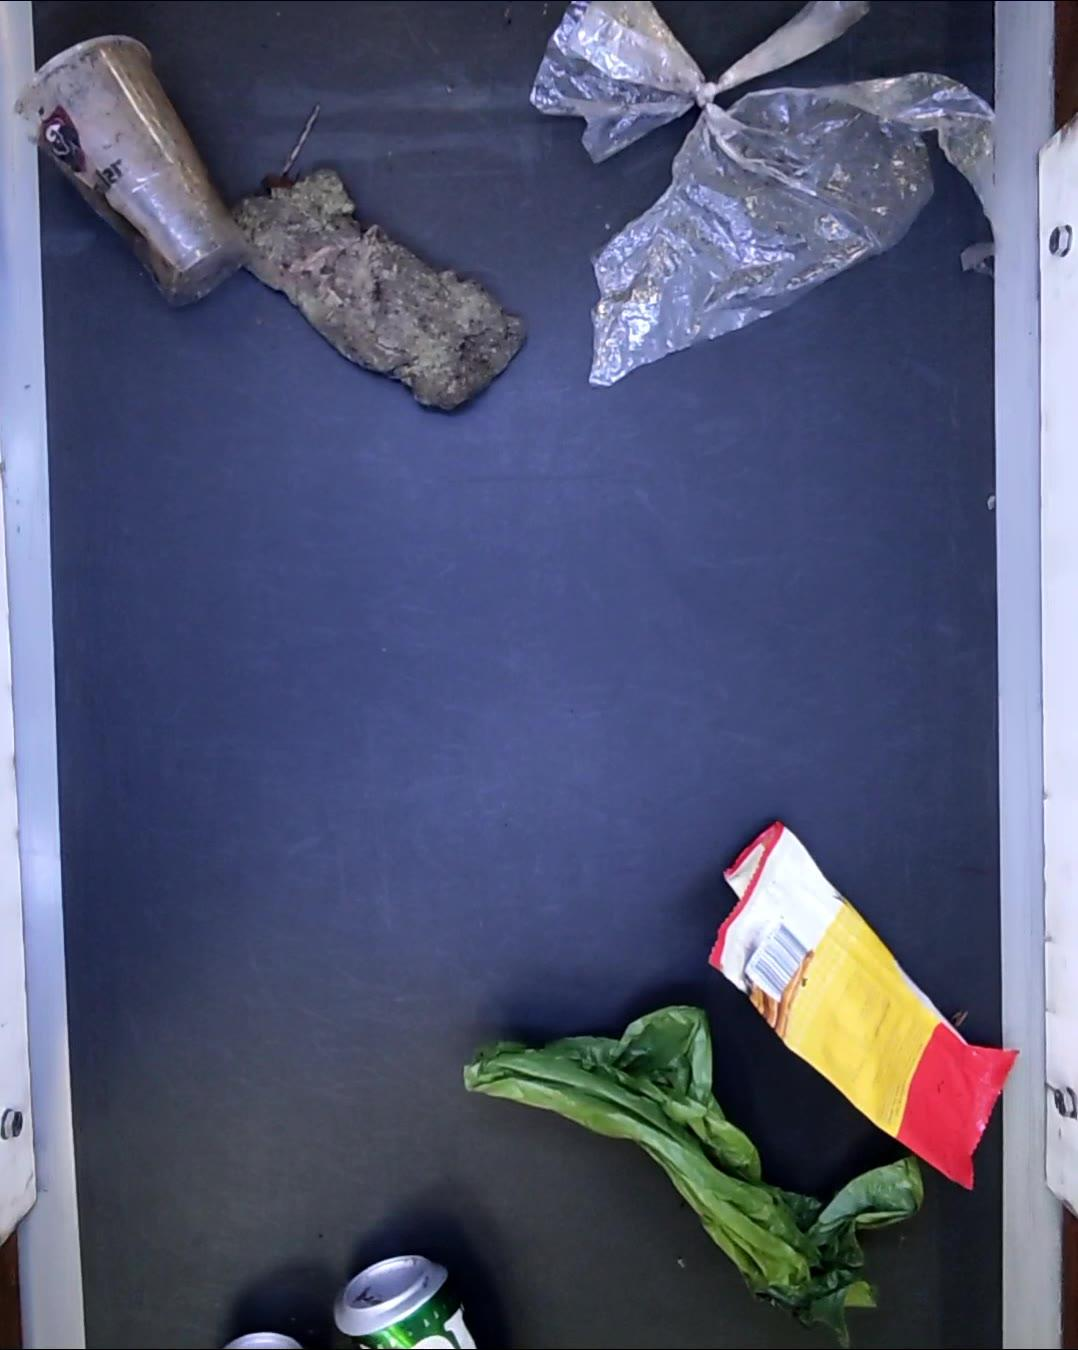Drankblikjes: (338, 1258, 482, 1350)
Plastic folies of stukken daarvan 2.5- 50 cm: (529, 0, 996, 392)
Snoep snack en chips verpakkingen: (706, 821, 1021, 1194)
